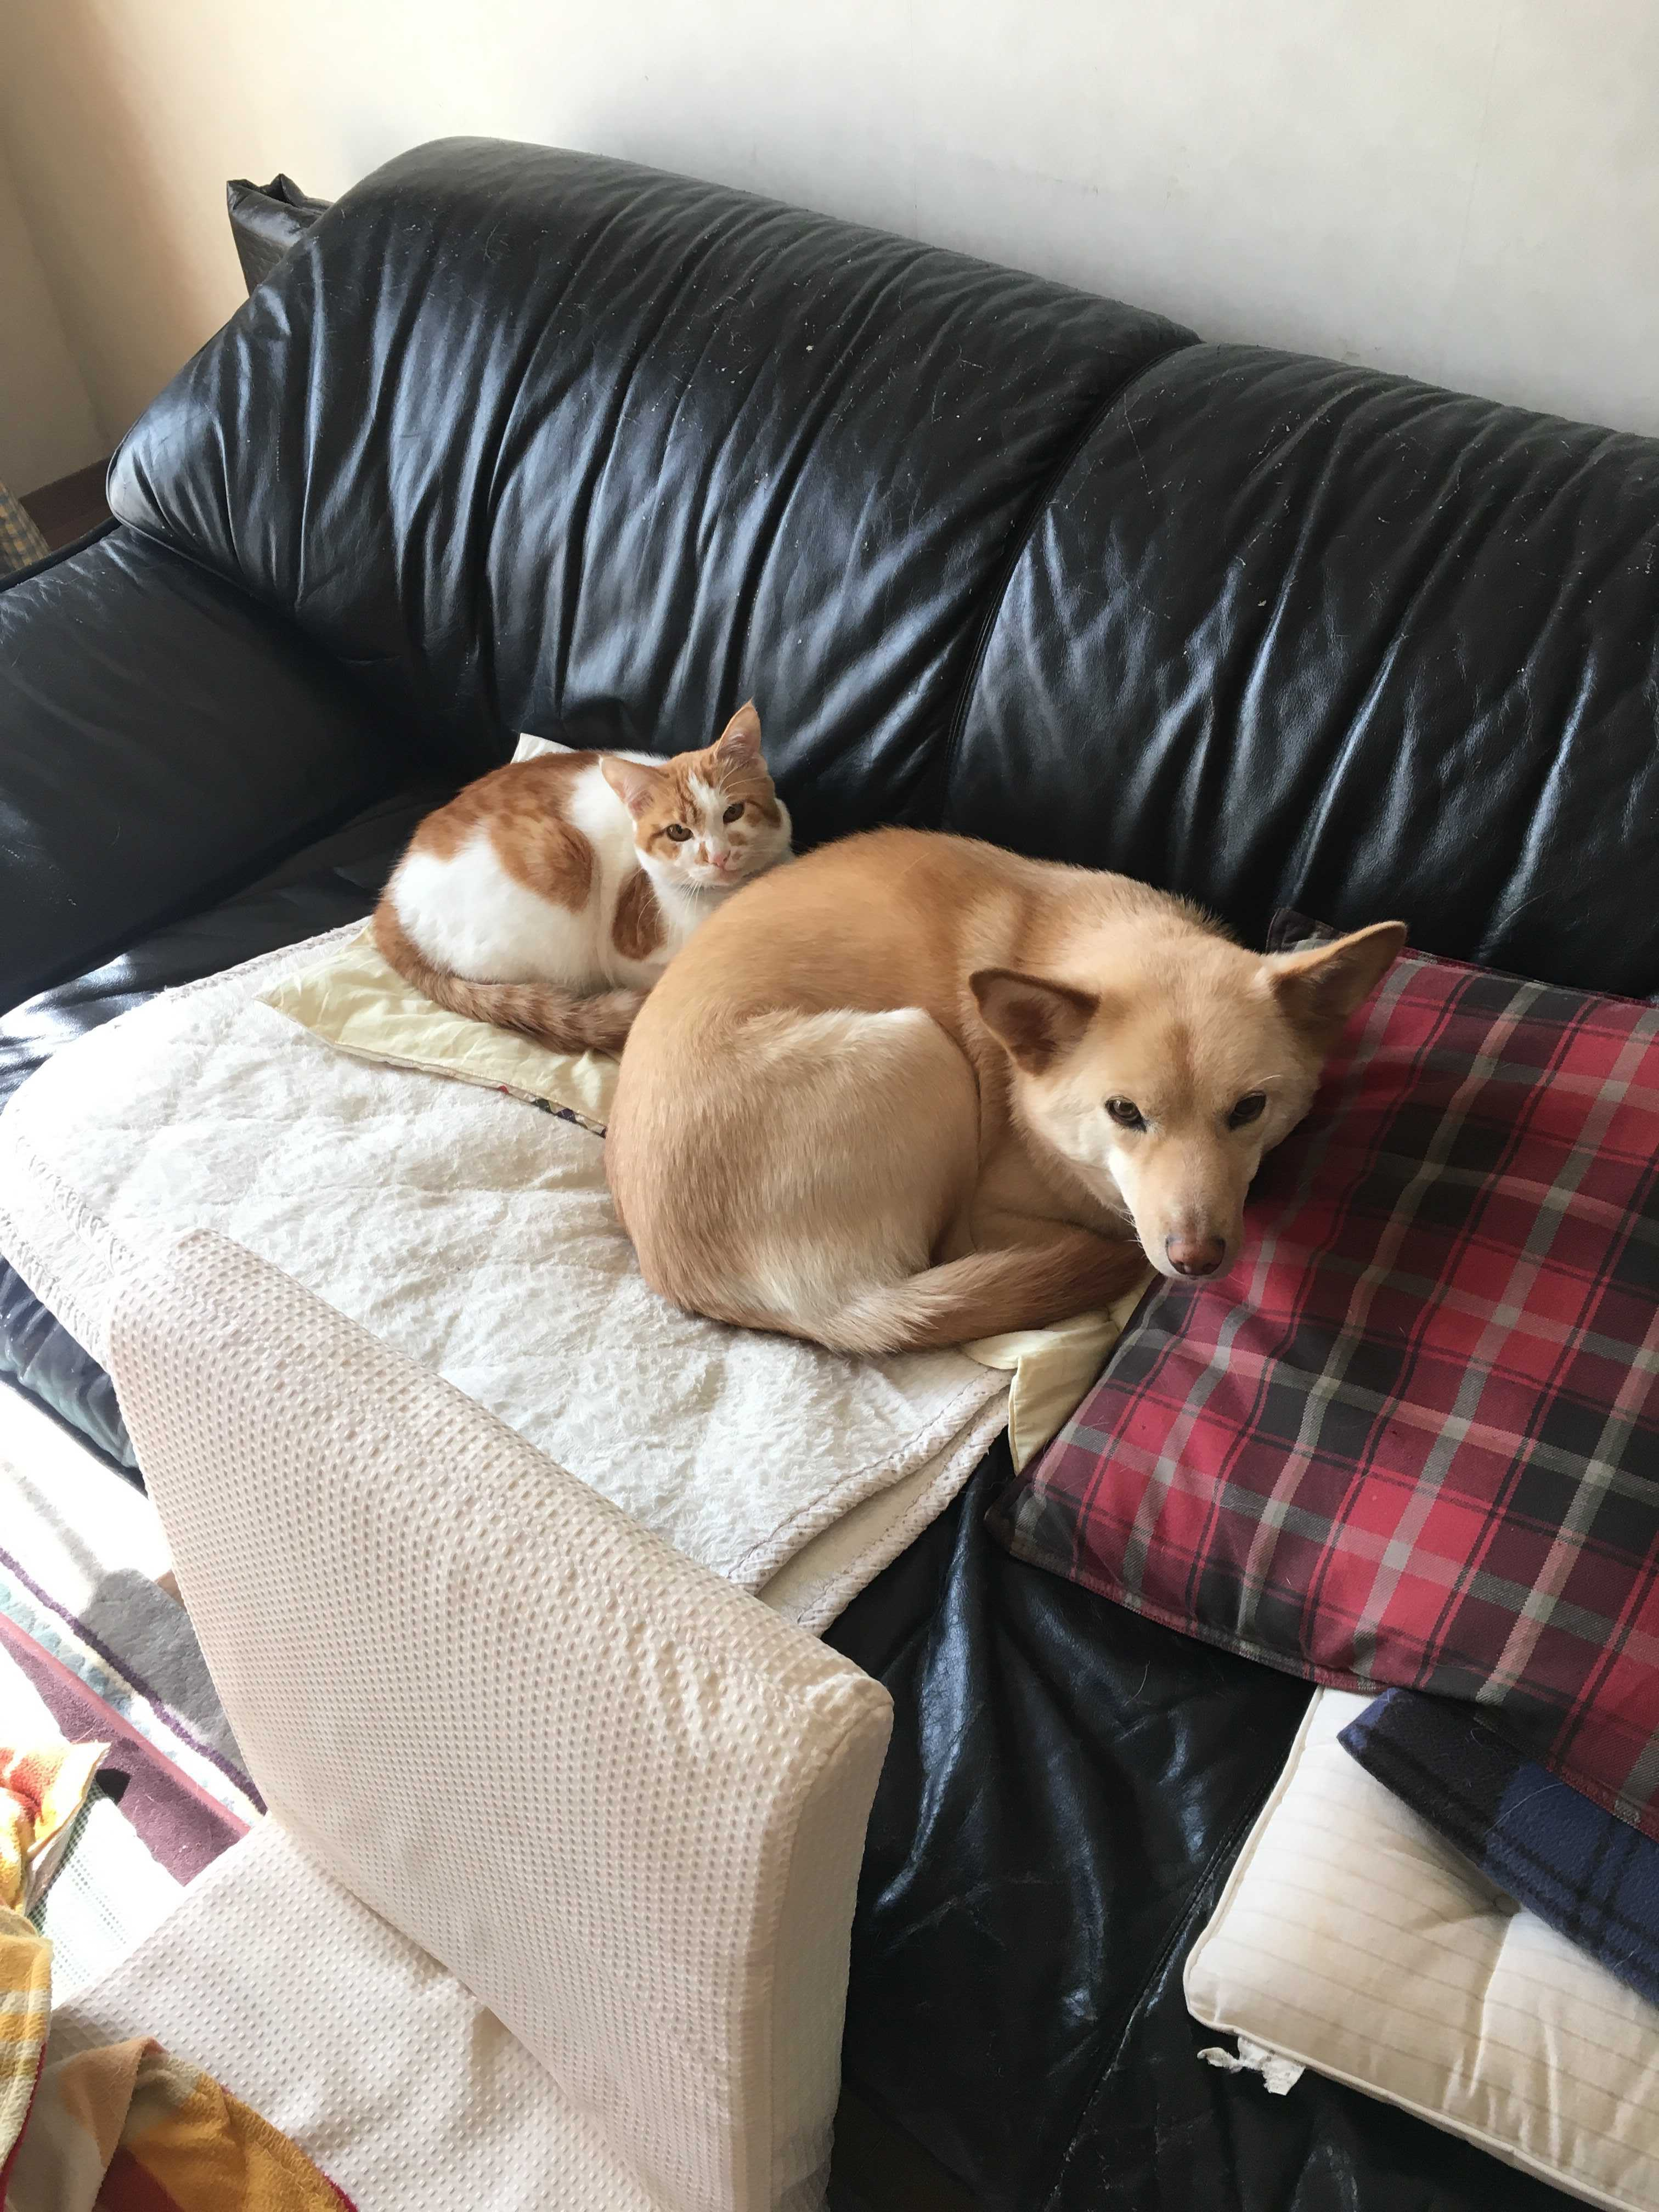cat: (364, 698, 805, 981)
dog: (671, 900, 1368, 1346)
